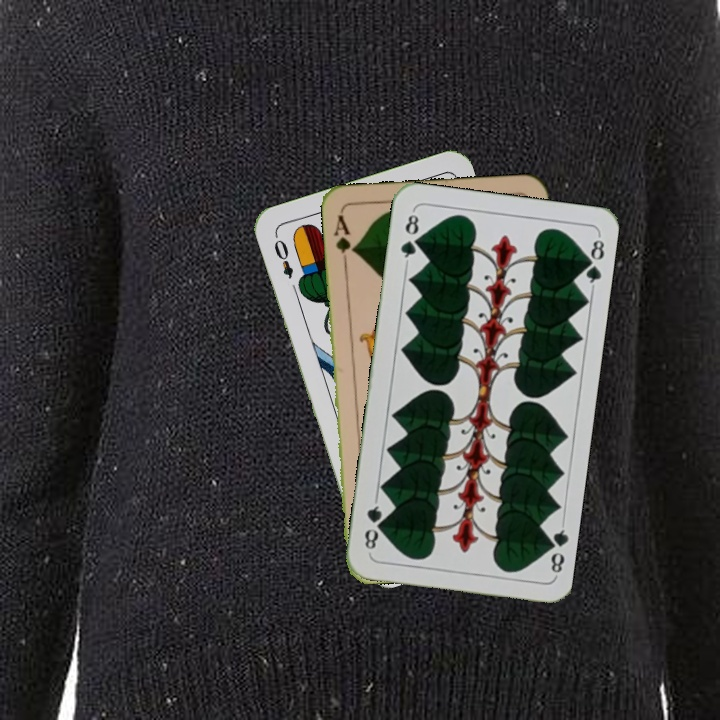EO: (270, 235, 296, 281)
G8: (540, 519, 570, 578), (396, 207, 422, 266)
GA: (330, 211, 358, 269)
